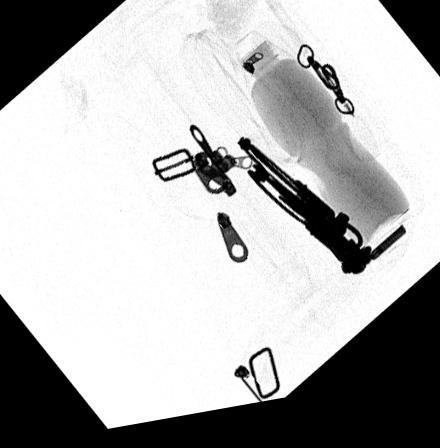HandCuffs: (235, 142, 372, 289)
